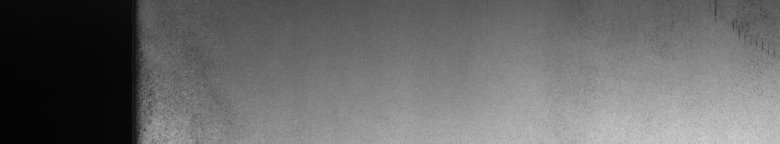ka: (708, 4, 775, 57)
